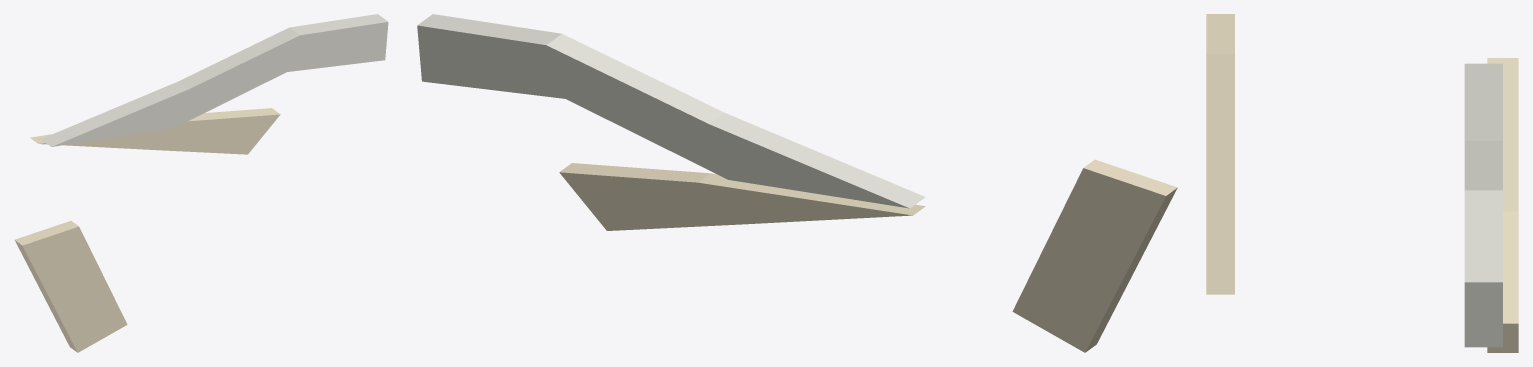
File: Golden_Pilot_Troll_Gear.glb
3 renders of one model, left to right at view 1: azimuth 30°, elevation 25°; view 2: azimuth 150°, elevation 25°; view 3: azimuth 270°, elevation 25°, orthographic. The views are drawn at different scales.
Parts seen in each view (by area): view 1: Windblown scarf upper.001, Scarf hanging panel.001, Windblown scarf lower.001; view 2: Windblown scarf upper.001, Scarf hanging panel.001, Windblown scarf lower.001; view 3: Windblown scarf upper.001, Scarf hanging panel.001, Windblown scarf lower.001.
Boxes of the visible parts, x1,y1,x2,y2 form: Windblown scarf upper.001: (41, 14, 388, 146); Scarf hanging panel.001: (14, 221, 127, 352); Windblown scarf lower.001: (30, 108, 280, 154); Windblown scarf upper.001: (417, 14, 925, 208); Scarf hanging panel.001: (1012, 159, 1177, 352); Windblown scarf lower.001: (559, 163, 925, 230); Windblown scarf upper.001: (1464, 63, 1502, 347); Scarf hanging panel.001: (1206, 14, 1234, 294); Windblown scarf lower.001: (1487, 58, 1518, 352).
Bounding box in the file's own units: 0.6399 × 0.27 × 0.2199.
